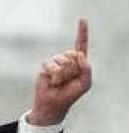up: (28, 15, 94, 111)
